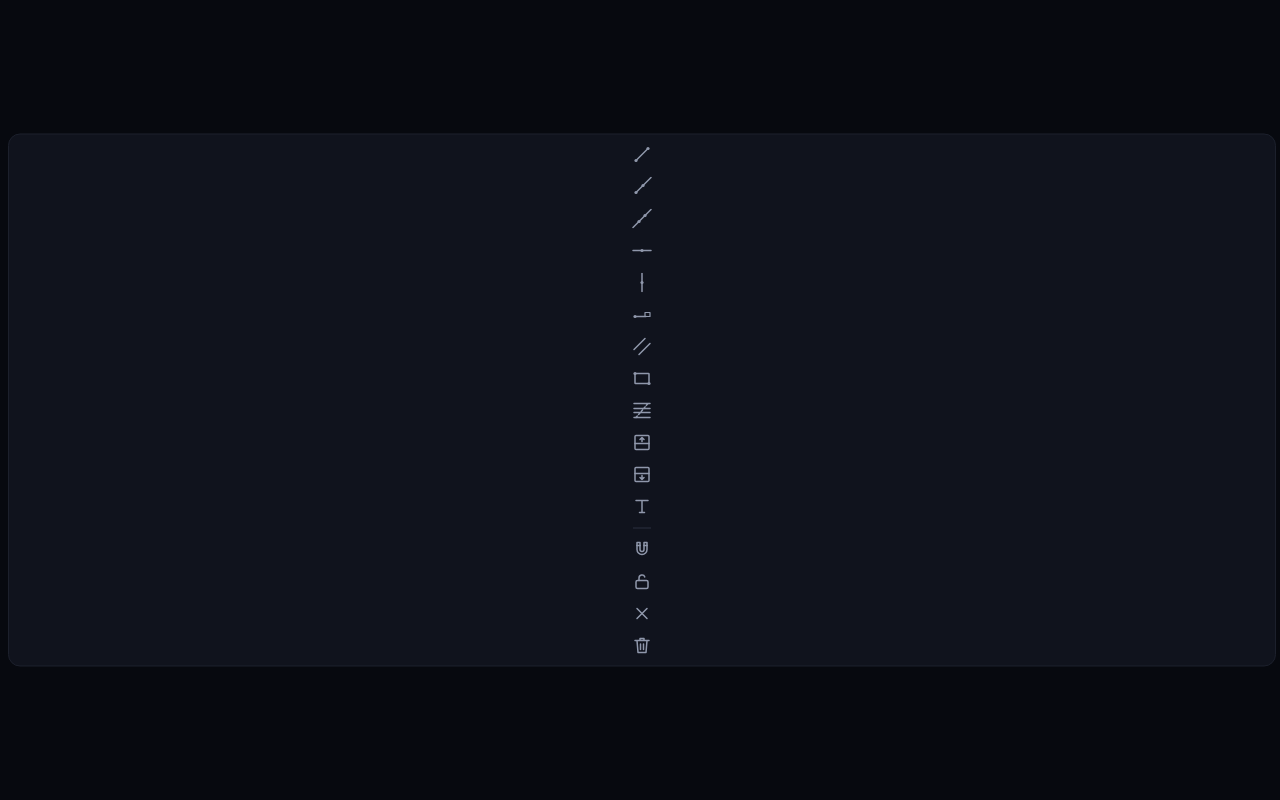
it: DrawingToolbar › Magnet and Lock all are toggles reflected via aria-pressed
Click the button named "Magnet" at (642,550), box x1=627 y1=534 x2=657 y2=564
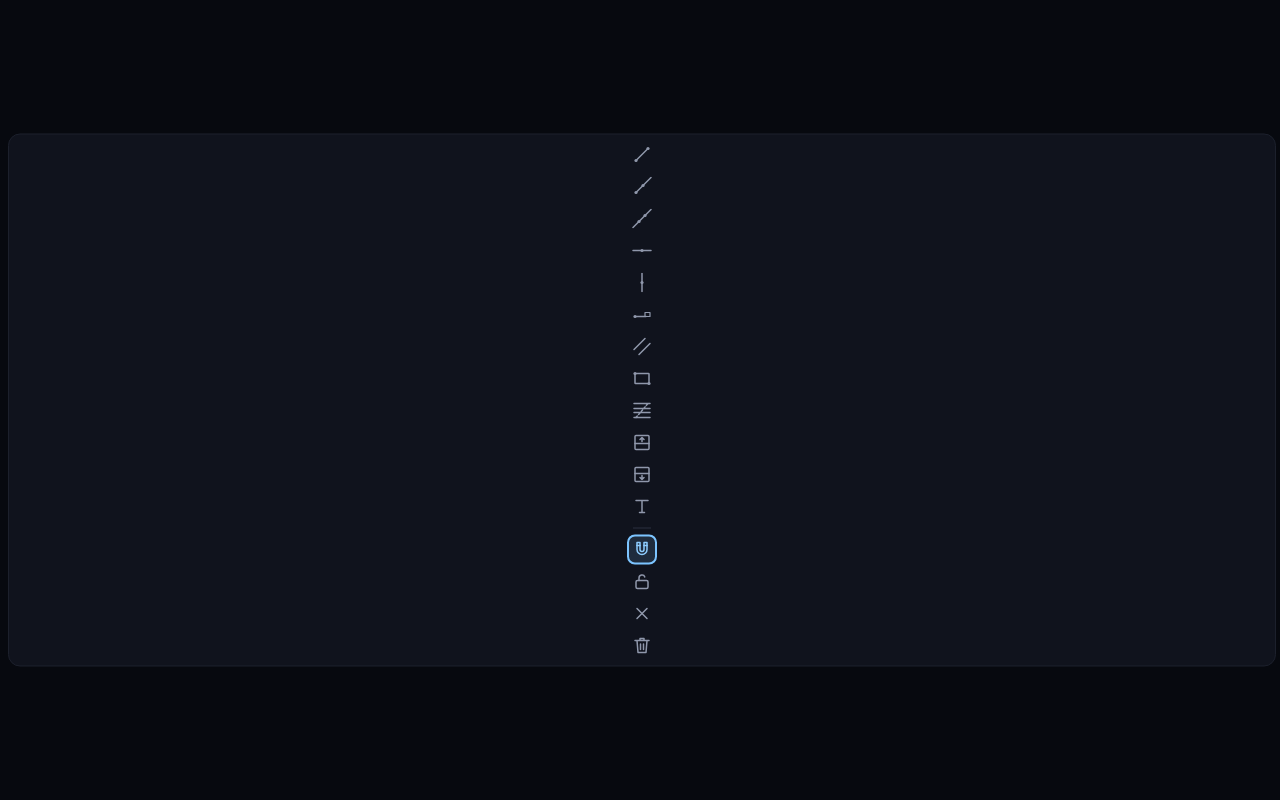
Check: the button named "Magnet" is pressed
Click the button named "Magnet" at (642,550), box x1=627 y1=534 x2=657 y2=564
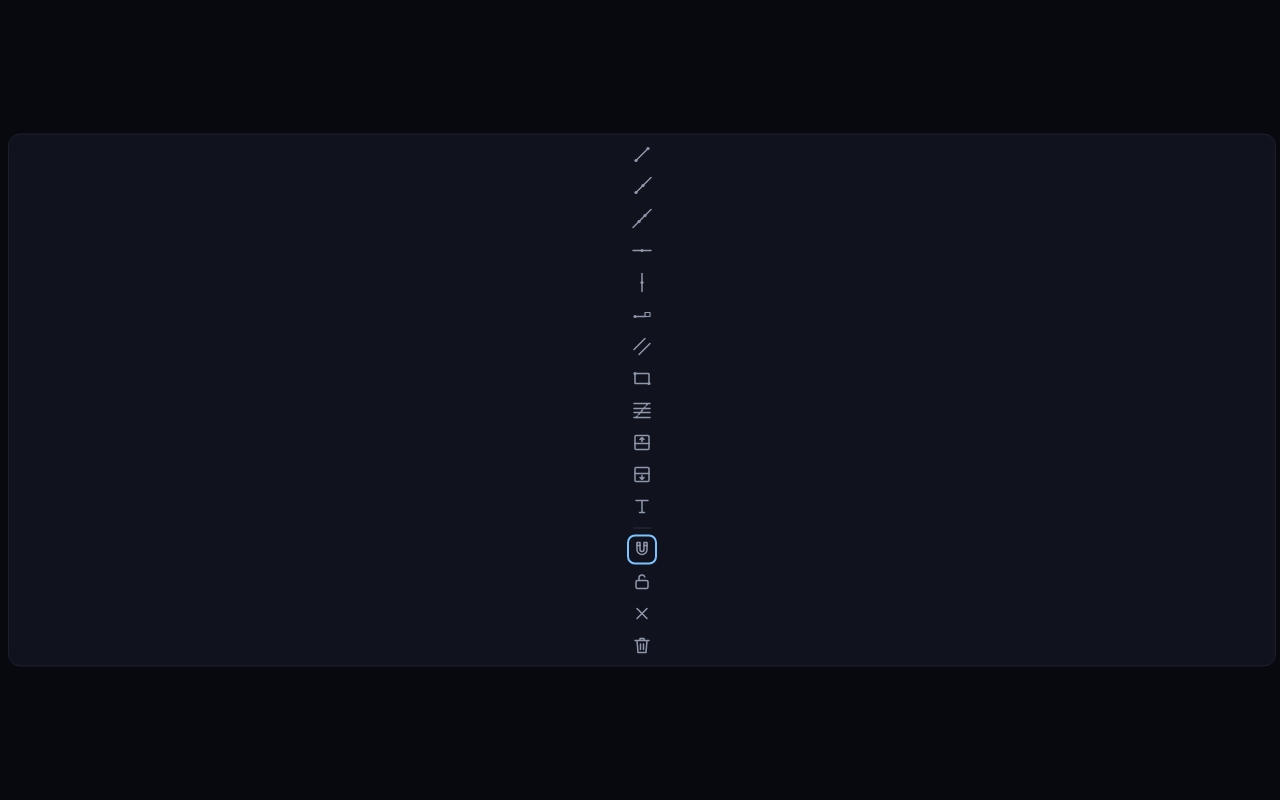
Check: the button named "Magnet" is not pressed, box x1=627 y1=534 x2=657 y2=564
Click the button named "Lock all drawings" at (642,582), box x1=627 y1=566 x2=657 y2=596
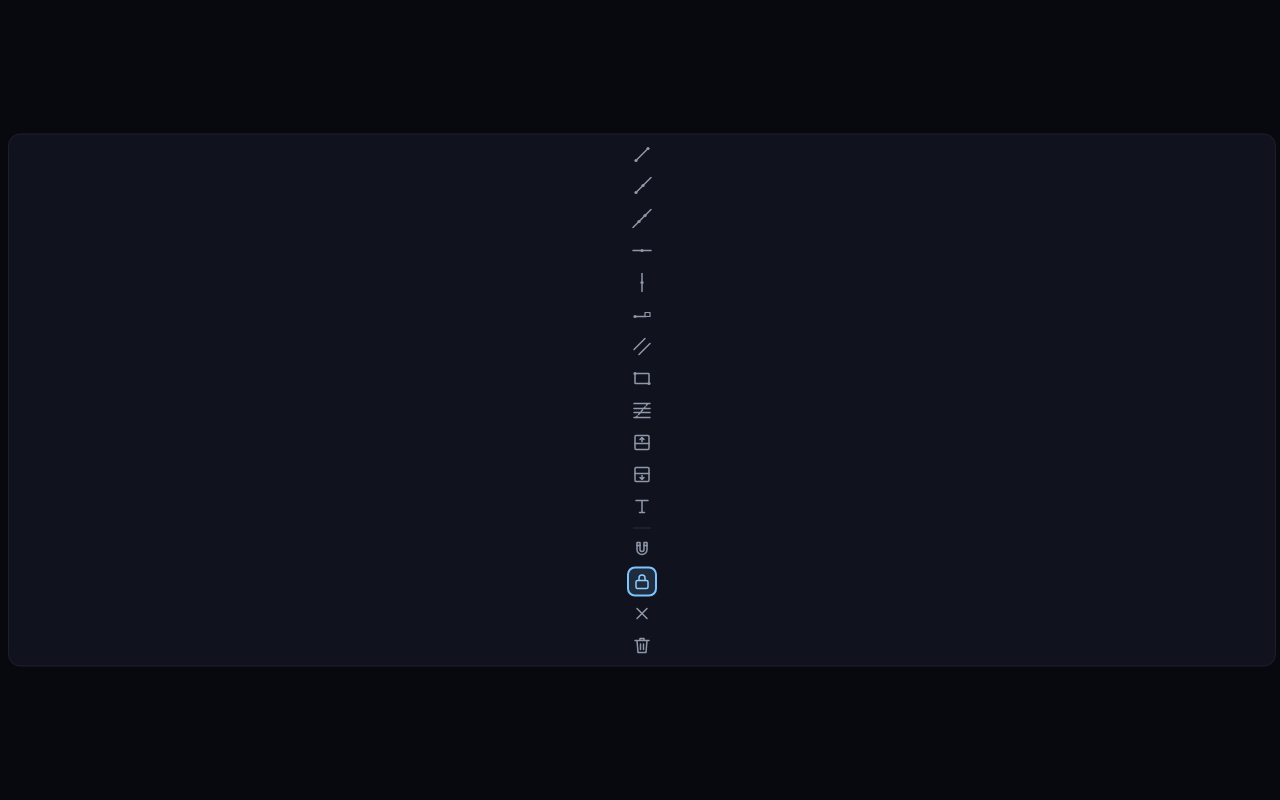
Check: the button named "Lock all drawings" is pressed, box x1=627 y1=566 x2=657 y2=596
